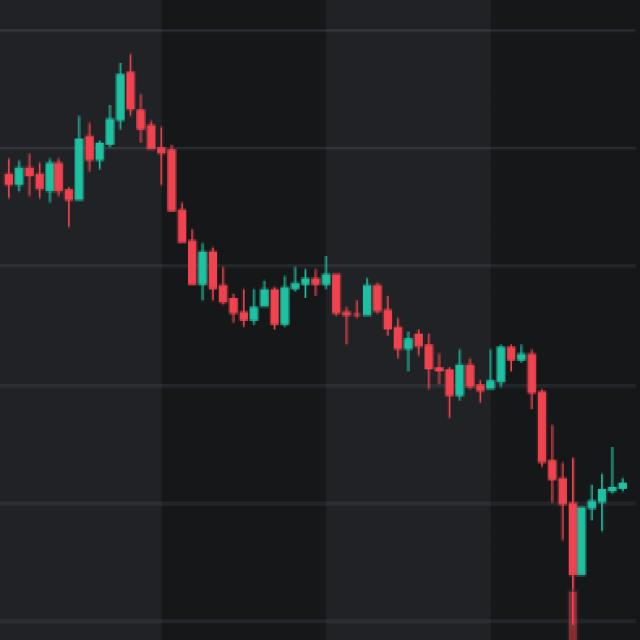Support-breakout: (28, 53, 567, 521)
